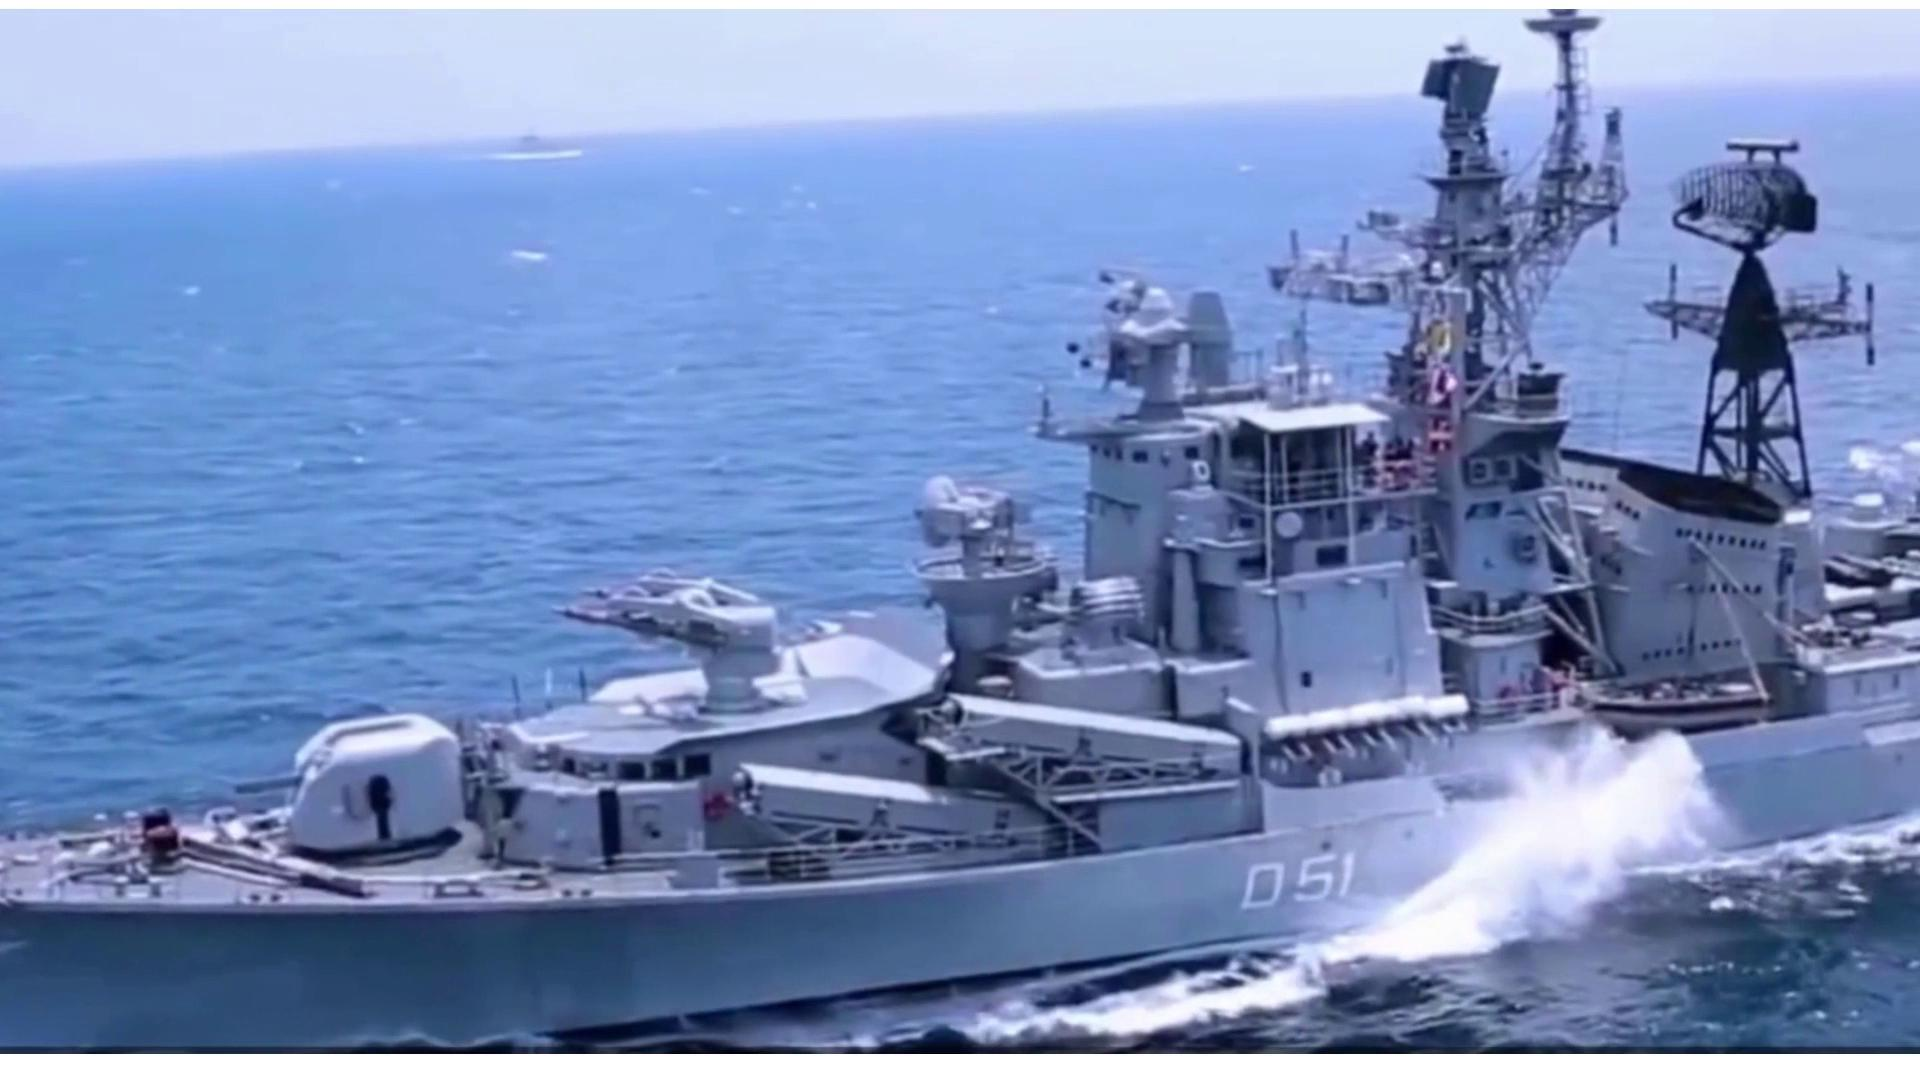OCR: (1226, 836, 1365, 922)
